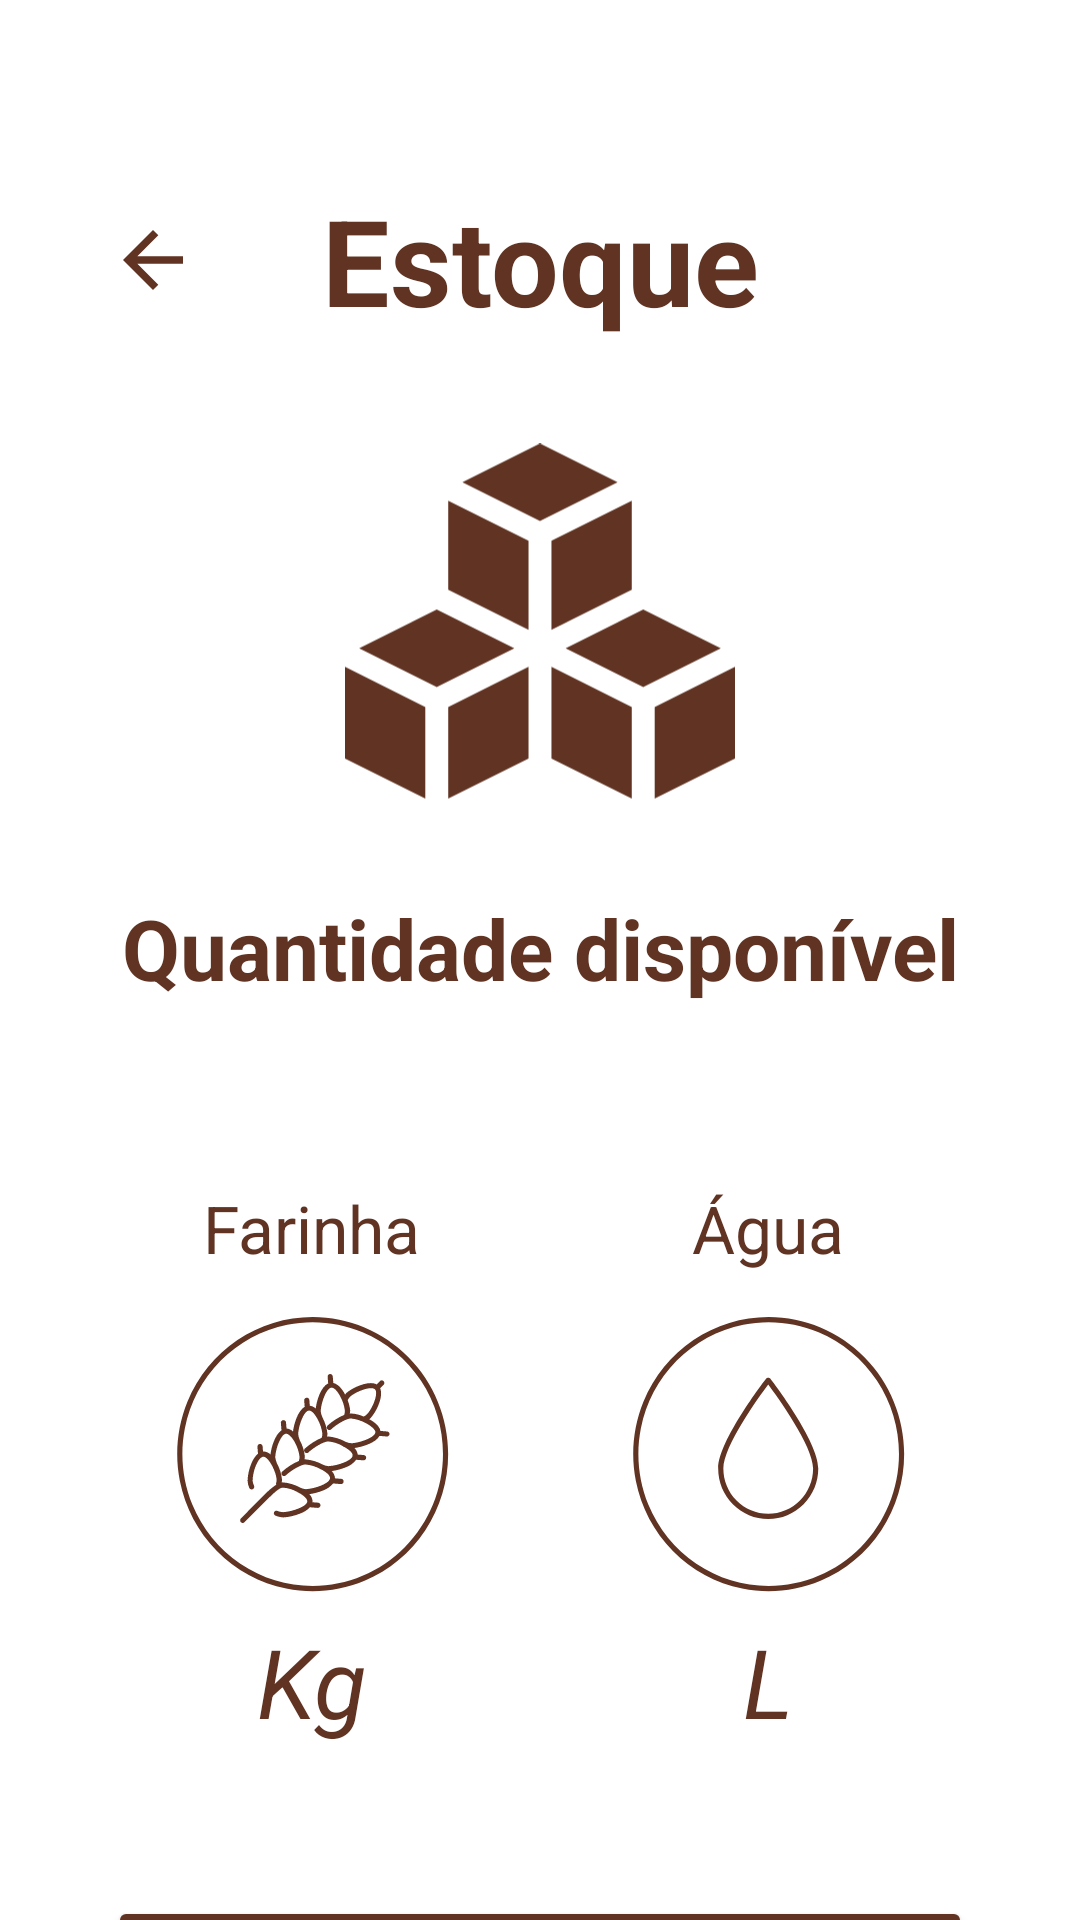

Named icons in this screenshot (1080*1920) and their centers, (x=x, y=y):
arrow back: (x=153, y=260)
wheat: (x=313, y=1454)
